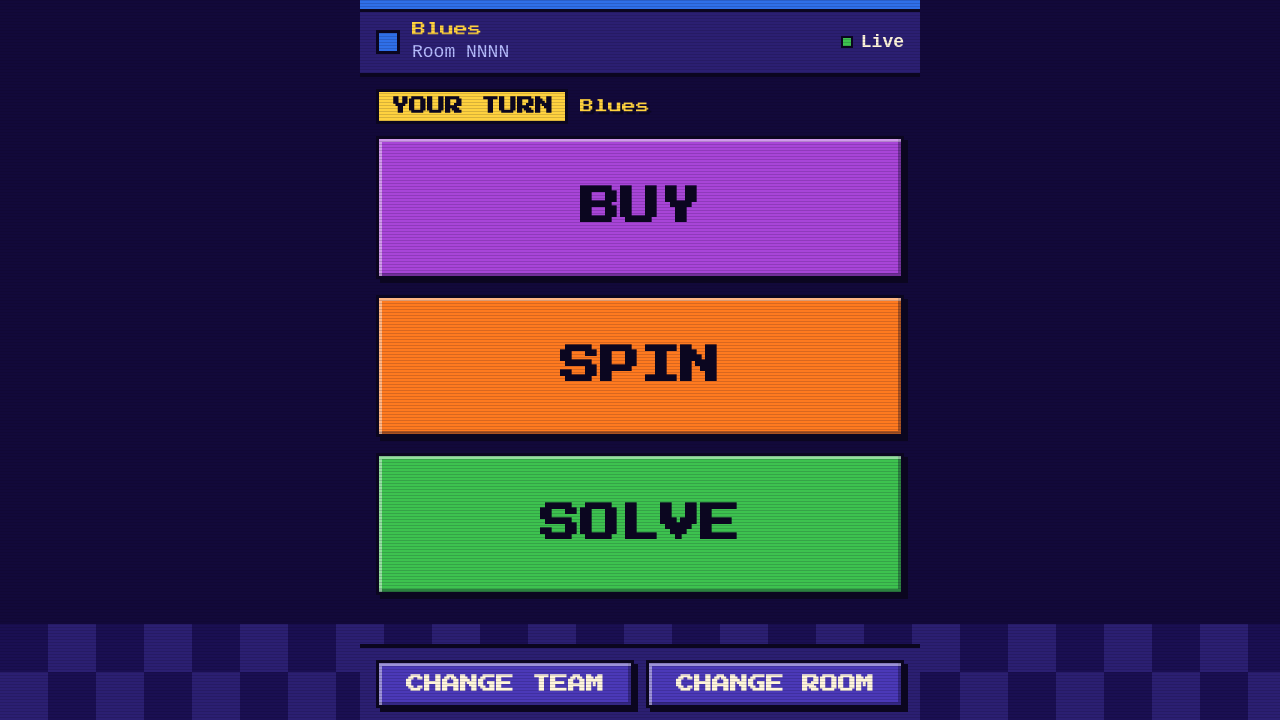
podium › closes the answer box quietly when the turn moves to another team
Expected: the text "Live" is shown, [841,30,904,55]
Click the button "Solve". click: [640, 524]
box: [376,453,904,595]
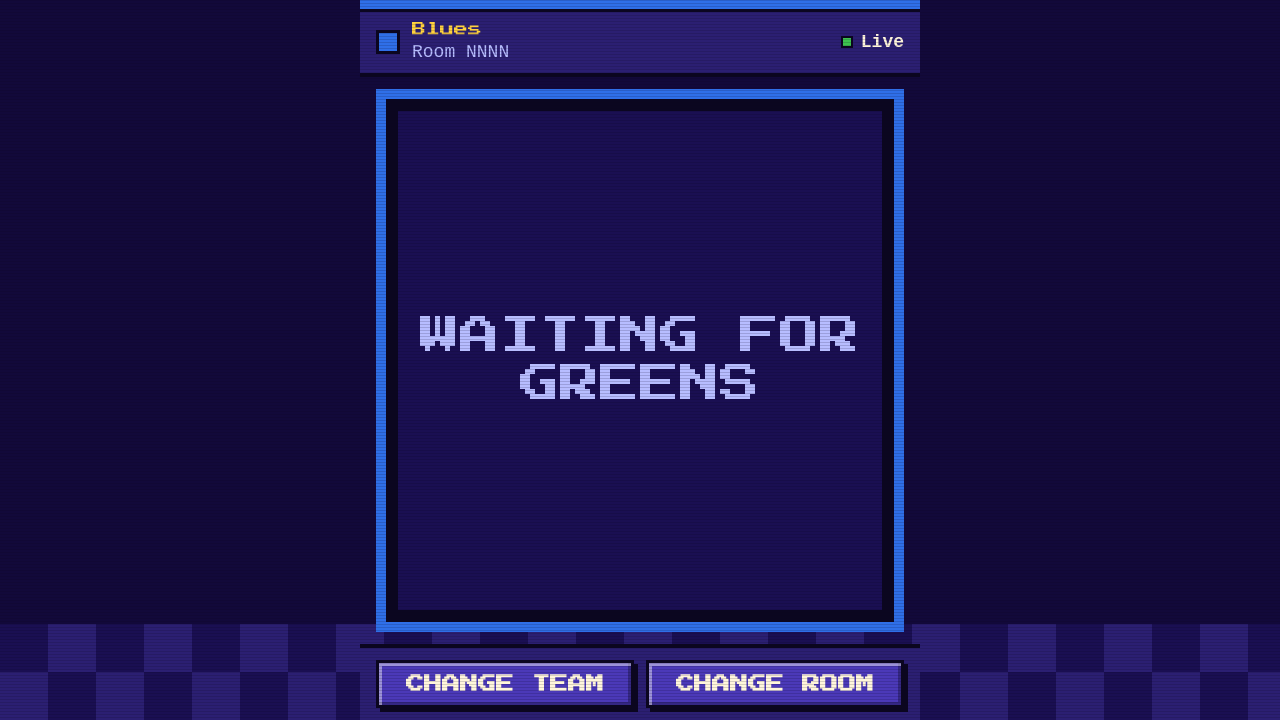
Expected: the button "Waiting for Greens" is shown, [394,107,886,614]
